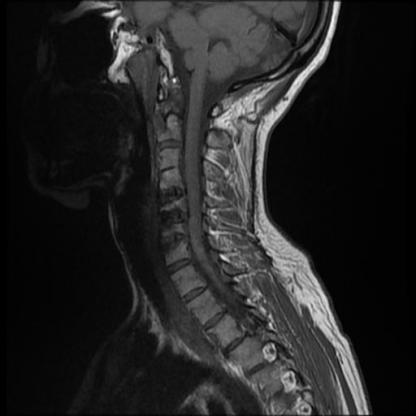Disc Protrusionrotation: (160, 209, 187, 230), (156, 188, 186, 201), (156, 165, 181, 174)
Osteophytesrotation: (160, 209, 187, 230), (156, 188, 186, 201), (156, 165, 181, 174)
